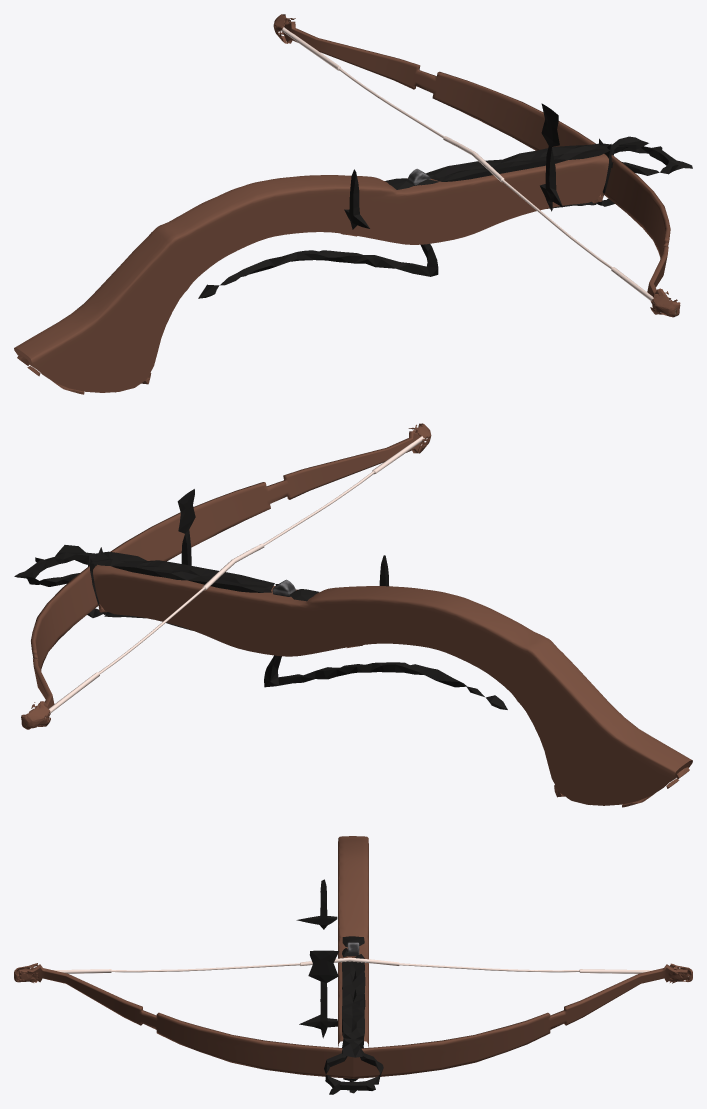
File: Beta_Crossbow.glb
The picture shows the model from 3 angles, top to bottom: view 1: azimuth 30°, elevation 25°; view 2: azimuth 150°, elevation 25°; view 3: azimuth 270°, elevation 25°; orthographic projection. The views are drawn at different scales.
Parts seen in each view (by area): view 1: body, trigger_low; view 2: body, trigger_low; view 3: body, trigger_low.
Boxes of the visible parts, box(x1,y1,x2,y2) form: body: box(14, 14, 680, 394); trigger_low: box(198, 103, 692, 298); body: box(21, 423, 692, 807); trigger_low: box(14, 489, 507, 709); body: box(14, 836, 692, 1078); trigger_low: box(296, 879, 383, 1094).
Size of the model in its own units: 0.6562 by 0.1804 by 0.6848.
